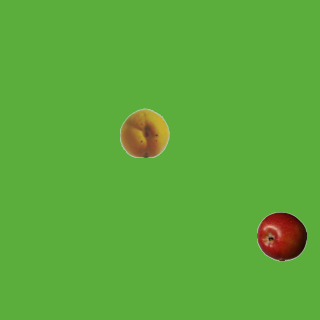Apple Braeburn: (256, 211, 306, 261)
Peach 2: (119, 107, 169, 157)
